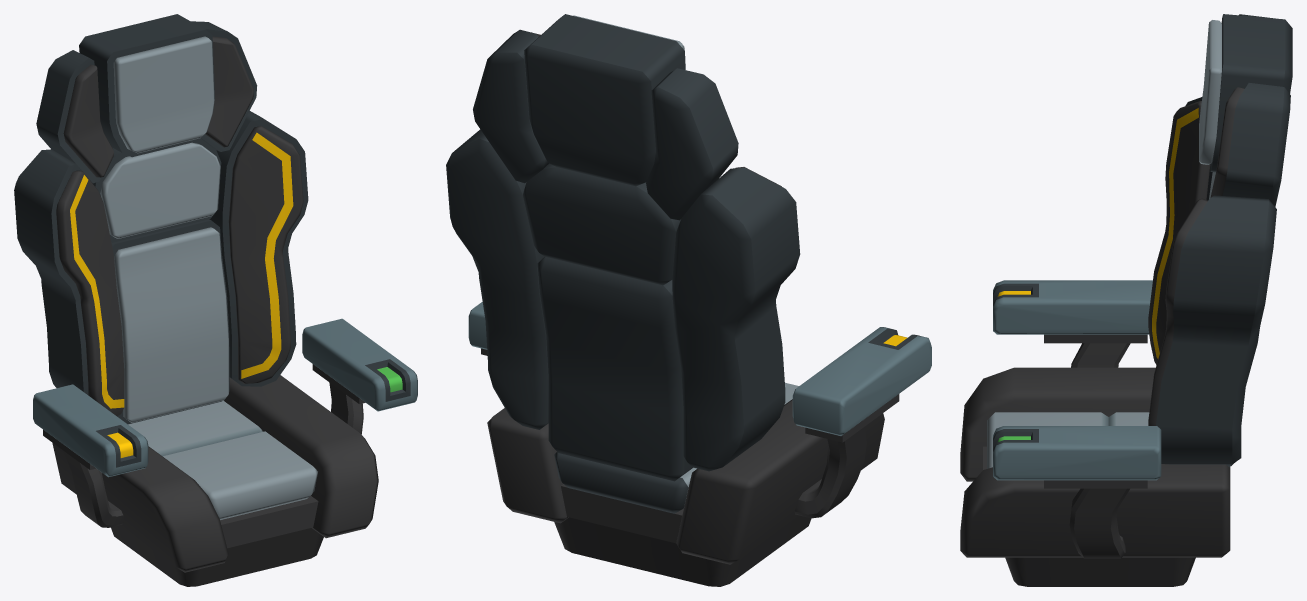
The model's file is Armchair_006_Chair_01.fbx.
3 renders of one model, left to right at view 1: azimuth 30°, elevation 25°; view 2: azimuth 150°, elevation 25°; view 3: azimuth 270°, elevation 25°, orthographic. The views are drawn at different scales.
Visible parts, largest first — view 1: Armchair_006_Chair_01; view 2: Armchair_006_Chair_01; view 3: Armchair_006_Chair_01.
Part boxes in pixels (left/top/right/bottom): Armchair_006_Chair_01: left=14, top=14, right=417, bottom=586; Armchair_006_Chair_01: left=446, top=14, right=931, bottom=586; Armchair_006_Chair_01: left=960, top=14, right=1292, bottom=586.
Size of the model in its own units: 90.47 by 75.25 by 128.
